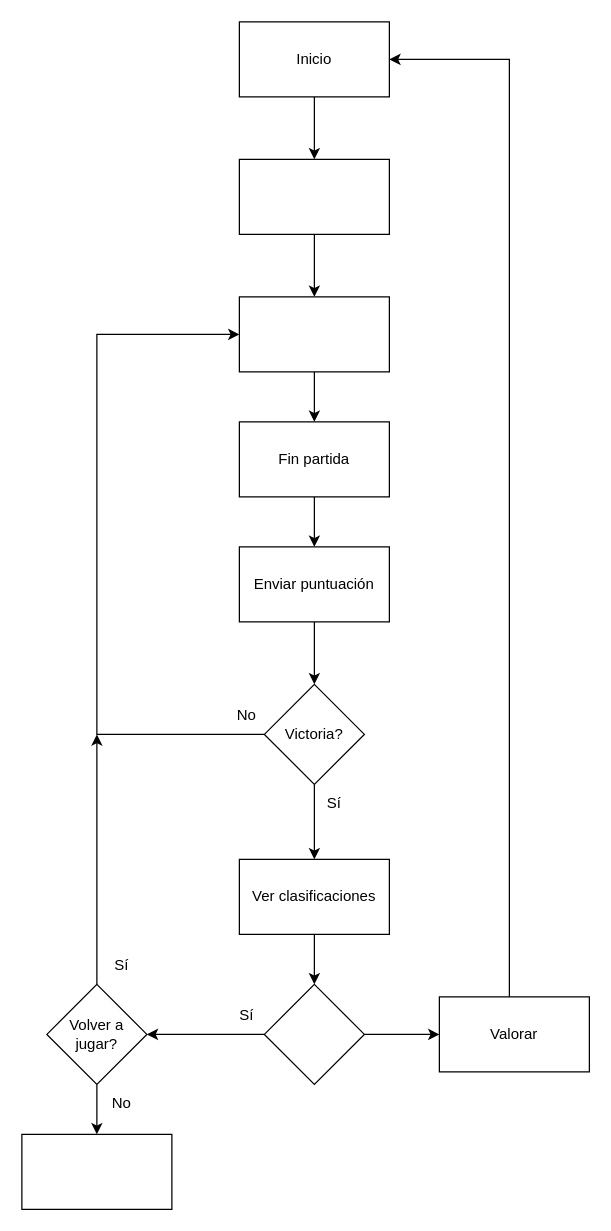
The diagram is 611 pixels wide and 1231 high, and some of its shapes have lost their labels. The centre of each missing label's shape, as x and y in pixels:
"Partida" goes at pixel 313 334.
"Salir" goes at pixel 96 1171.
"Valorado?" goes at pixel 313 1033.
"Verificación" goes at pixel 313 196.
